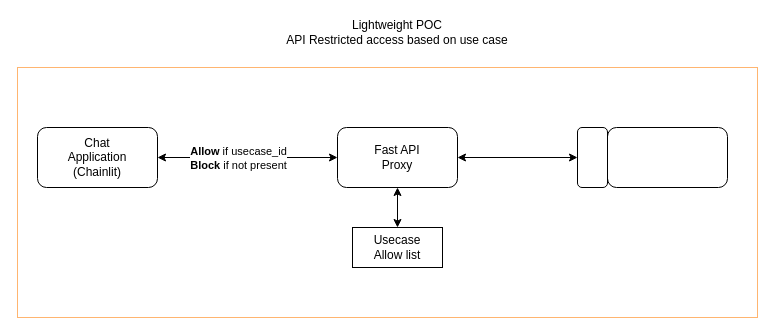
This 775x335 diagram has some shape labels left out. Each missing label, with the centre of its shape:
"Chat Server (Ollama w/ lama 3.1)" belongs at point (667, 157).
"Fast API" belongs at point (592, 157).
